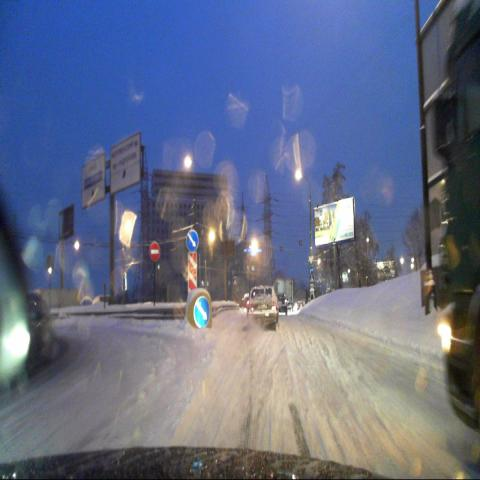3_1: (148, 240, 162, 262)
